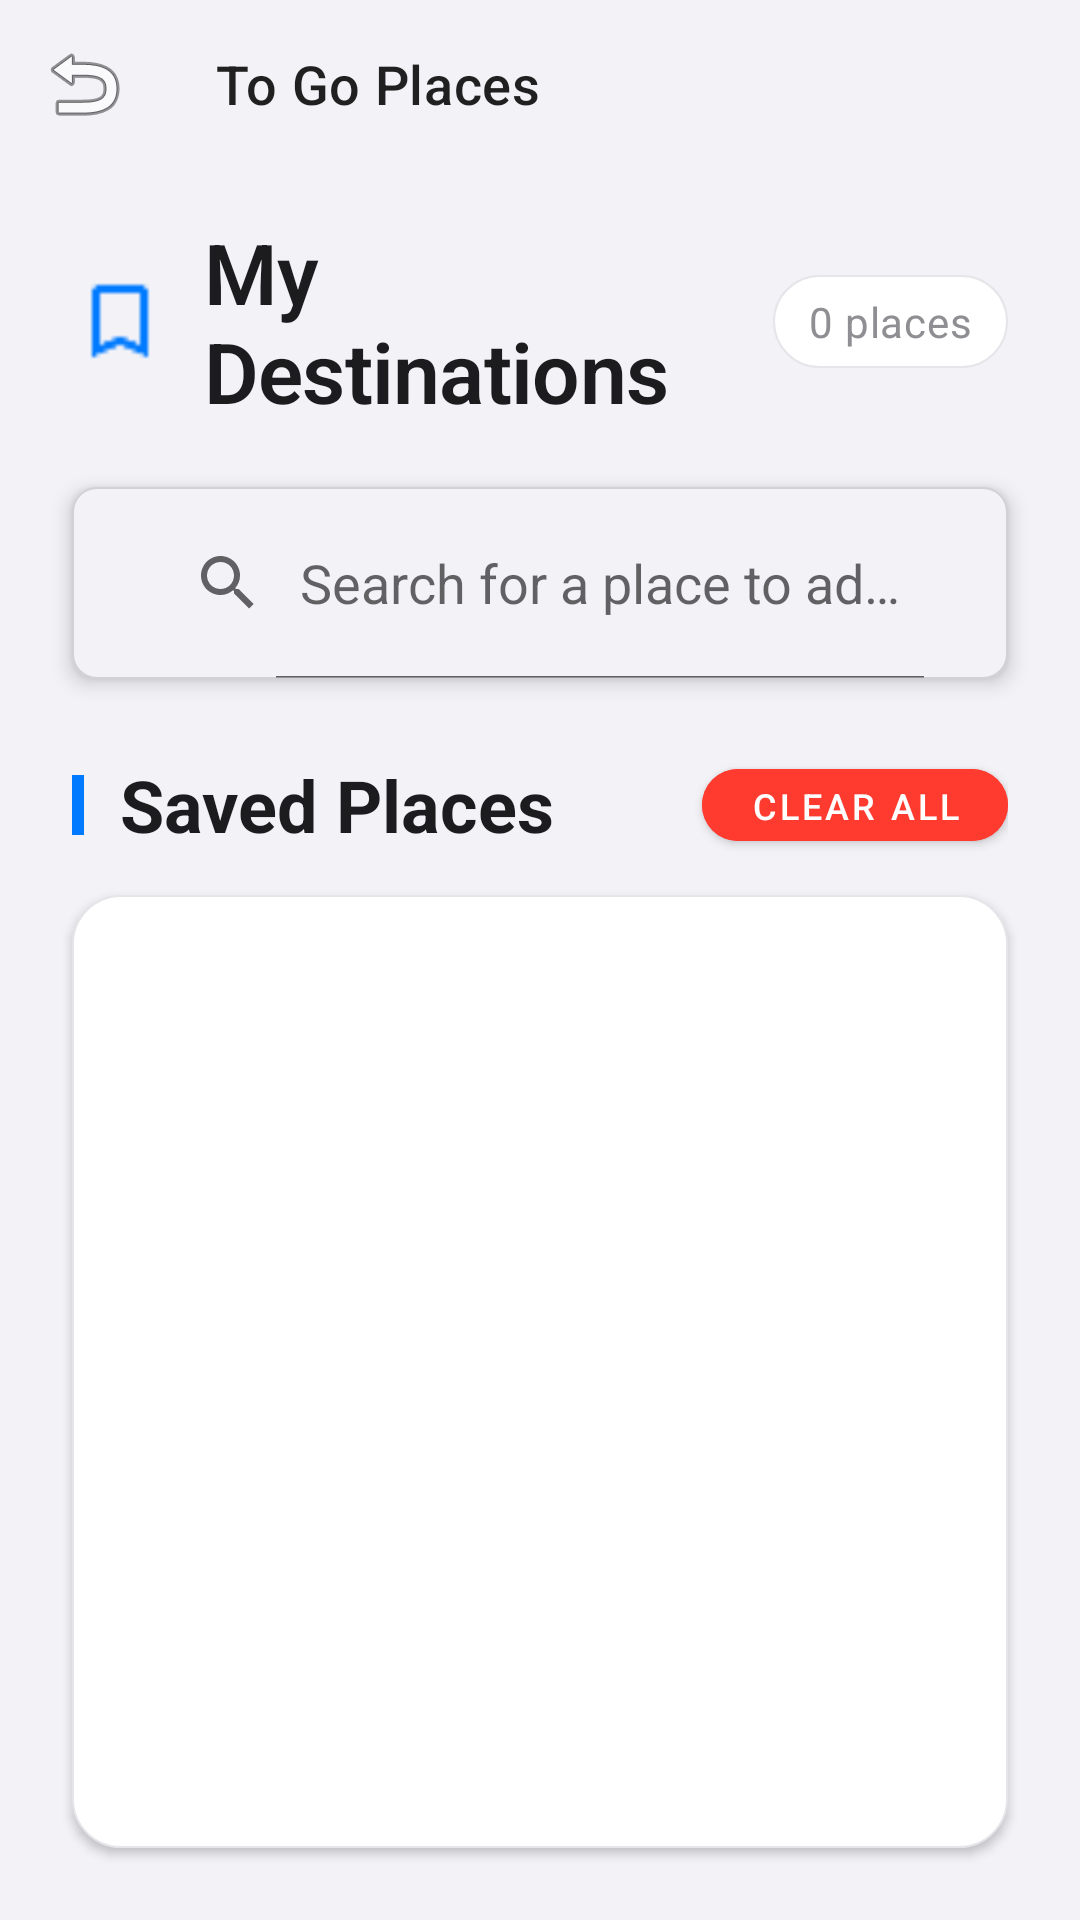

Icons on this 1080×1920 Android screen, each with its box as (x1, y1, x2, y2):
bookmark: (90, 283, 150, 359)
